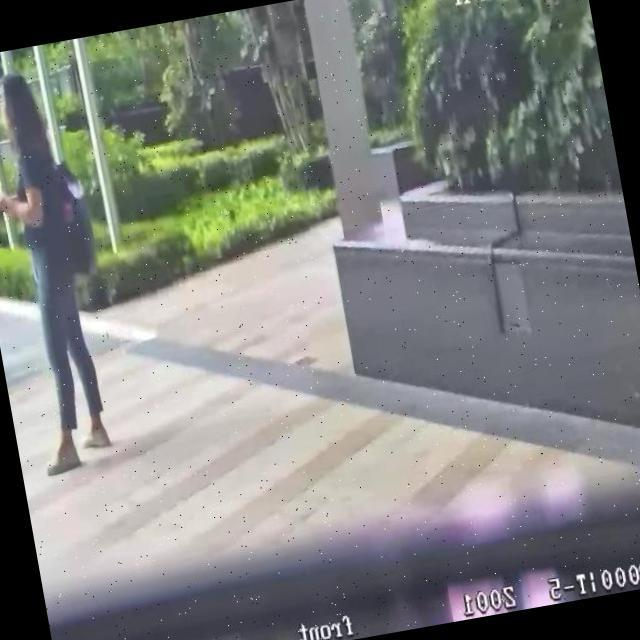person: (0, 63, 118, 479)
